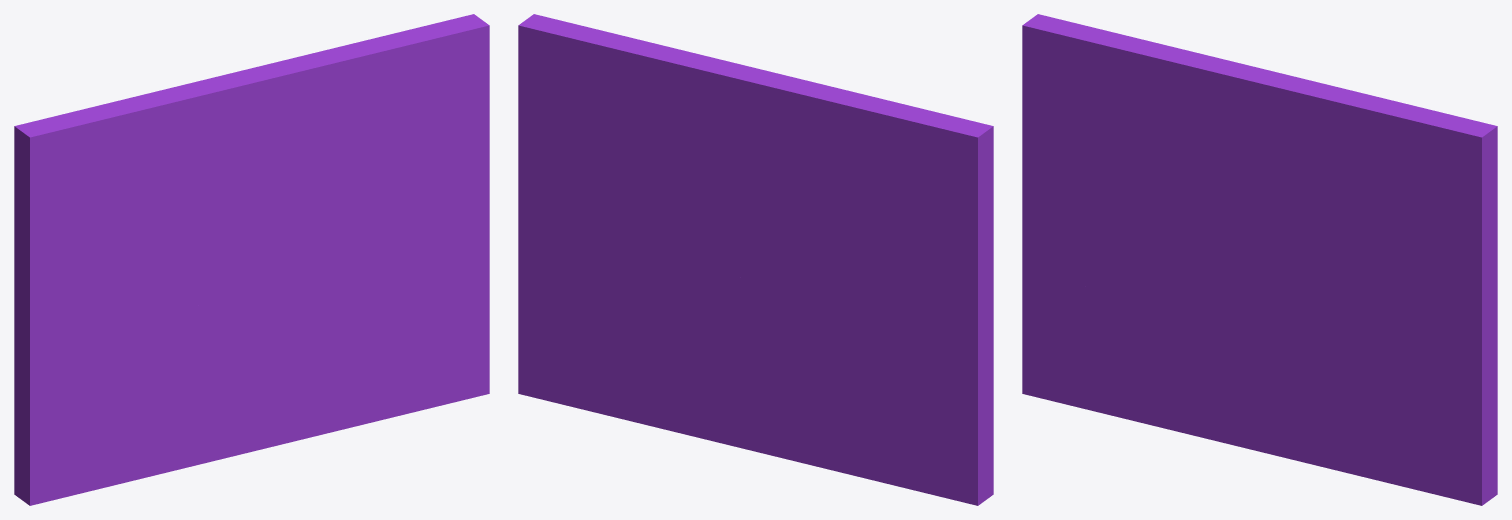
File: Barrier_134_chunks.fbx
The picture shows the model from 3 angles, left to right: view 1: azimuth 30°, elevation 25°; view 2: azimuth 150°, elevation 25°; view 3: azimuth 330°, elevation 25°; orthographic projection.
Parts seen in each view (by area): view 1: Barrier_134_2, Barrier_134_0, Barrier_134_4, Barrier_134_5, Barrier_134_6, Barrier_134_3; view 2: Barrier_134_2, Barrier_134_0, Barrier_134_4, Barrier_134_3, Barrier_134_6, Barrier_134_1, Barrier_134_5; view 3: Barrier_134_2, Barrier_134_0, Barrier_134_4, Barrier_134_5, Barrier_134_6, Barrier_134_3.
Boxes of the visible parts, bbox=[...] form: Barrier_134_2: bbox=[261, 14, 489, 402]; Barrier_134_0: bbox=[14, 62, 294, 404]; Barrier_134_4: bbox=[211, 269, 451, 439]; Barrier_134_5: bbox=[83, 361, 302, 492]; Barrier_134_6: bbox=[14, 284, 234, 454]; Barrier_134_3: bbox=[14, 418, 120, 505]; Barrier_134_2: bbox=[518, 14, 731, 401]; Barrier_134_0: bbox=[716, 61, 993, 397]; Barrier_134_4: bbox=[552, 276, 802, 445]; Barrier_134_3: bbox=[773, 361, 993, 505]; Barrier_134_6: bbox=[779, 284, 993, 442]; Barrier_134_1: bbox=[731, 164, 787, 285]; Barrier_134_5: bbox=[731, 410, 799, 462]; Barrier_134_2: bbox=[1253, 78, 1497, 505]; Barrier_134_0: bbox=[1022, 14, 1299, 292]; Barrier_134_4: bbox=[1203, 269, 1443, 496]; Barrier_134_5: bbox=[1076, 338, 1294, 460]; Barrier_134_6: bbox=[1022, 272, 1227, 350]; Barrier_134_3: bbox=[1022, 342, 1112, 406].
Size of the model in its own units: 376 by 288 by 22.1.
